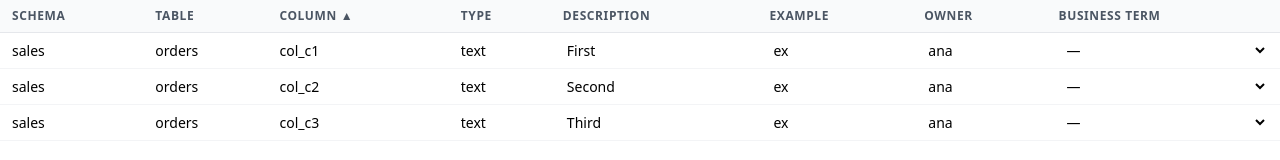
MetadataGrid keyboard editing › opens an editor seeded with the character typed over the cell
Click the text "First" at (581, 50), box x1=567 y1=40 x2=595 y2=60
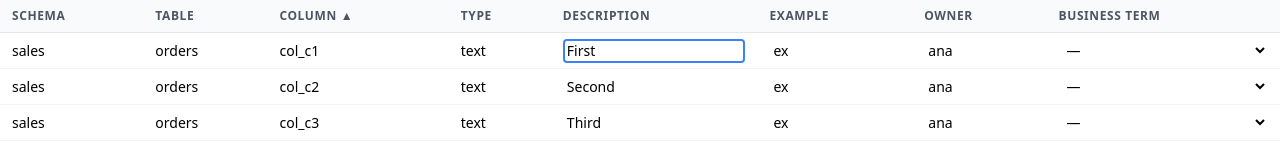
Press X in the table
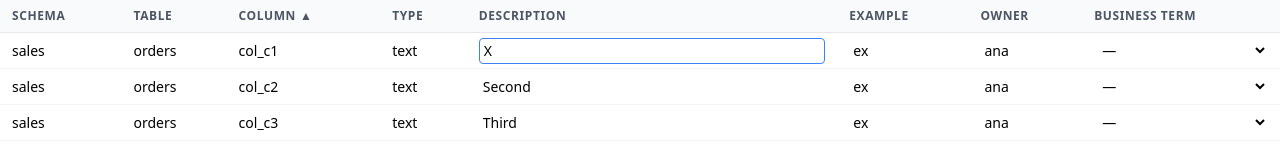
Now the field holds "X", box x1=479 y1=38 x2=825 y2=64
